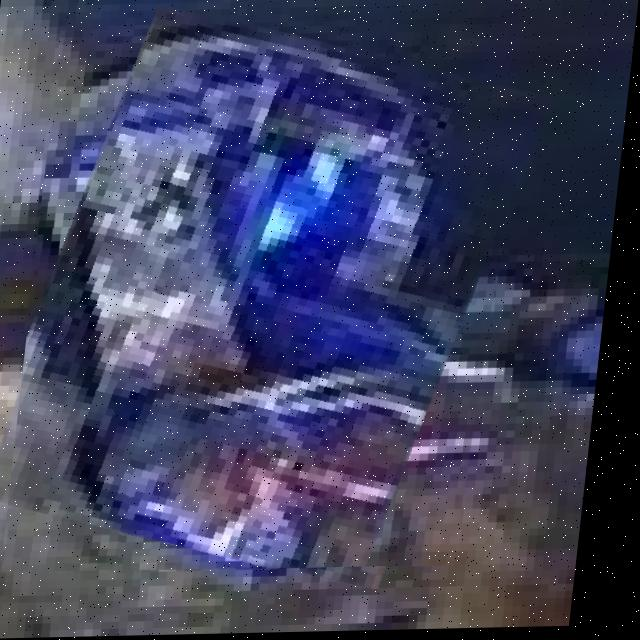litter: (13, 21, 534, 576)
